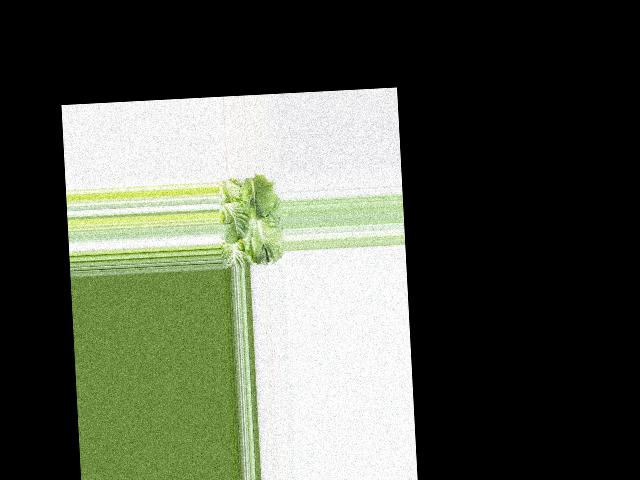lettuce: (216, 175, 283, 267)
